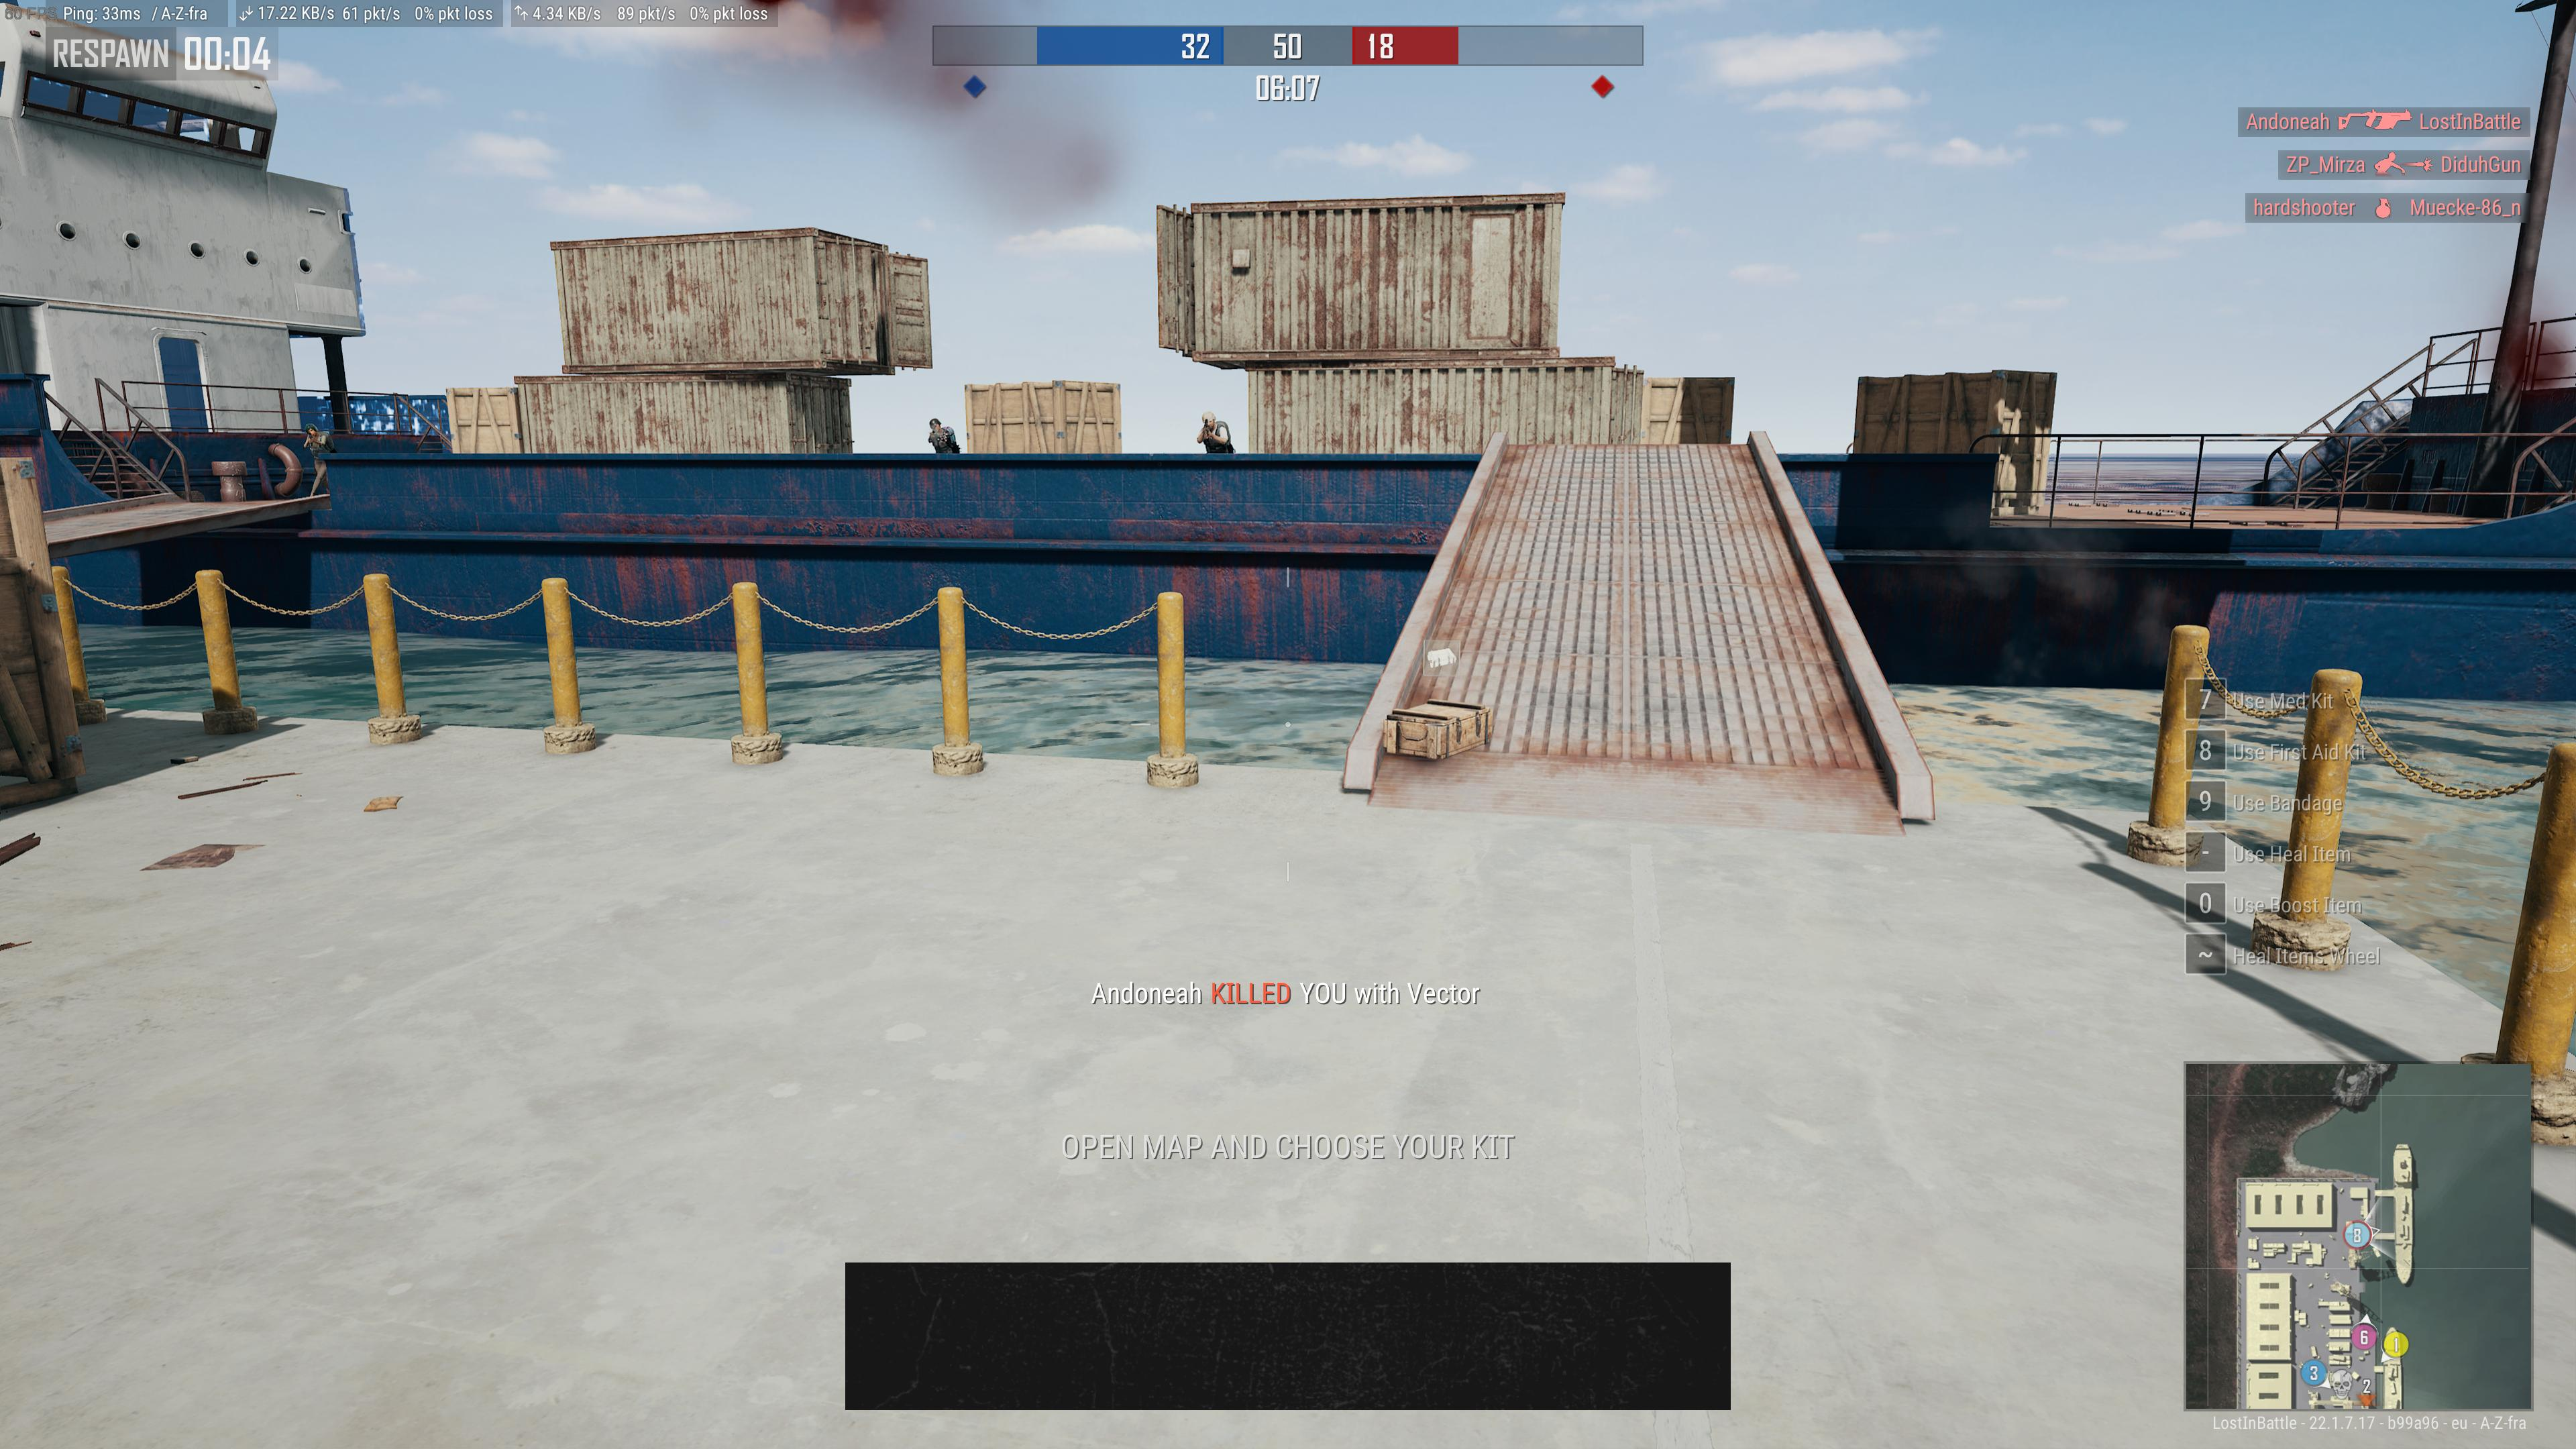enemy: (301, 423, 333, 497), (1196, 410, 1233, 453), (927, 418, 961, 453)
enemy_head: (1201, 410, 1215, 430), (929, 418, 941, 432), (304, 423, 317, 437)
